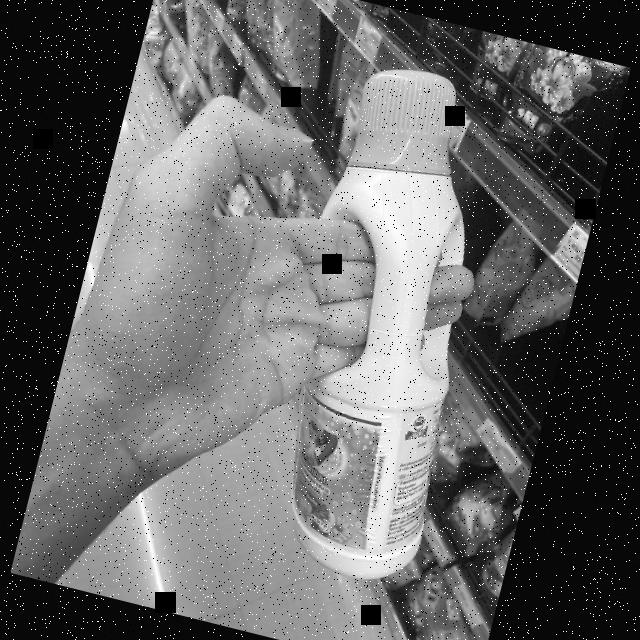chemical_plastic_bottle: (223, 43, 554, 609)
